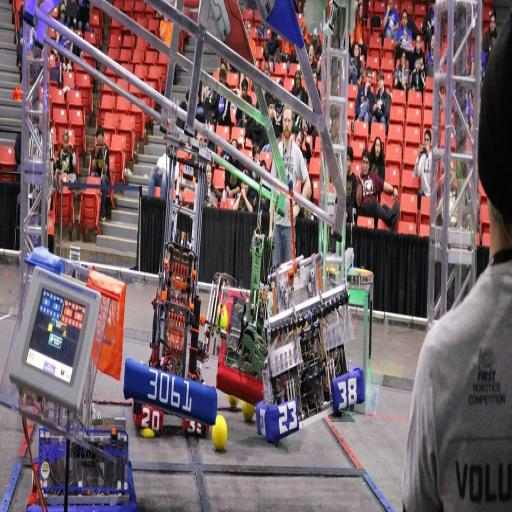robot: (124, 97, 218, 427), (253, 180, 367, 450), (132, 120, 210, 434), (206, 179, 286, 404)
